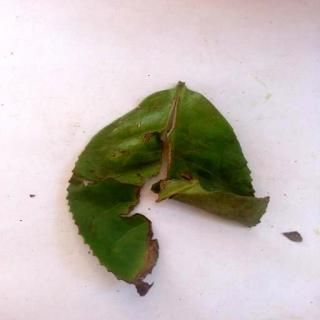Brown Blight: (68, 81, 271, 297)
